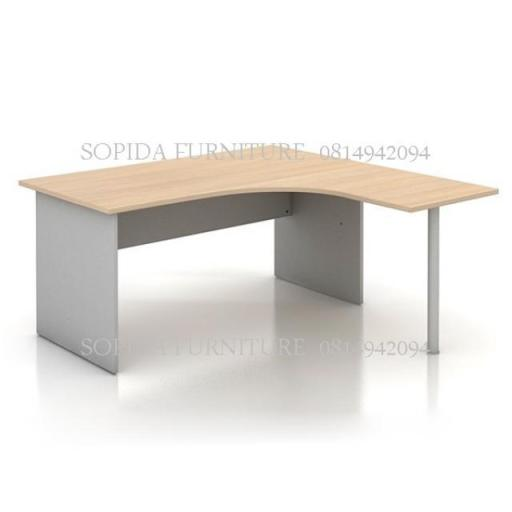table: (12, 138, 498, 379)
